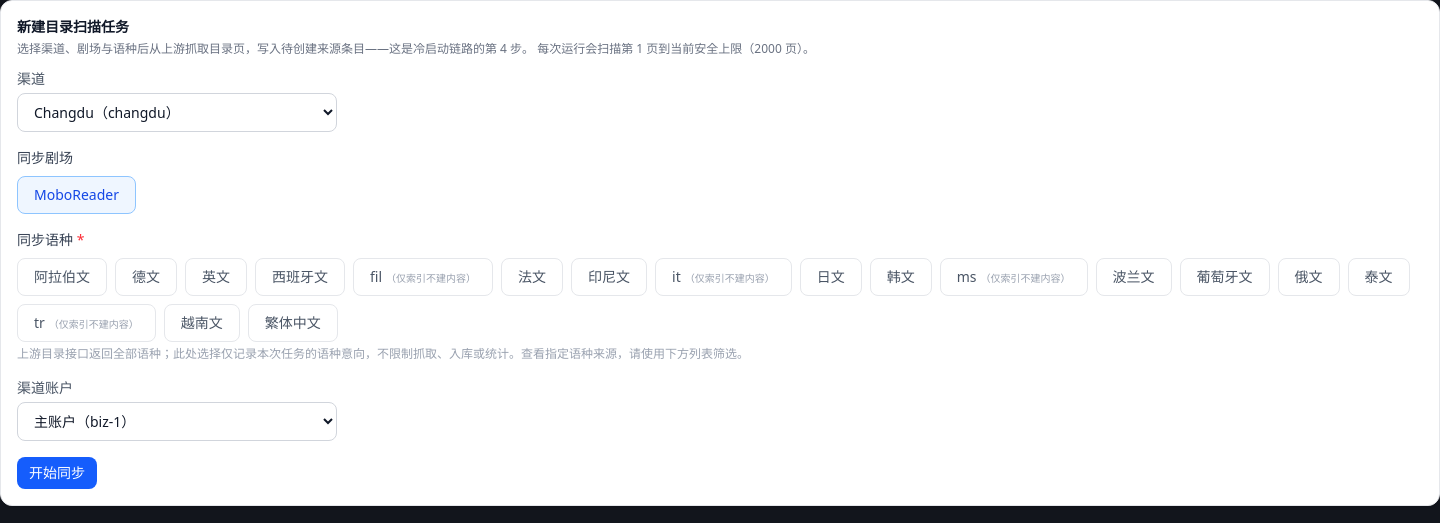
Test: 默认态：渠道 → 剧场 → 语种 → 账户 依次生效 › 切换渠道会把剧场与账户都重置为新渠道的第一项
The image size is (1440, 523).
Select "第二渠道（second-channel）" in the dropdown labelled "渠道". click: [177, 112]
box: [17,93,337,132]
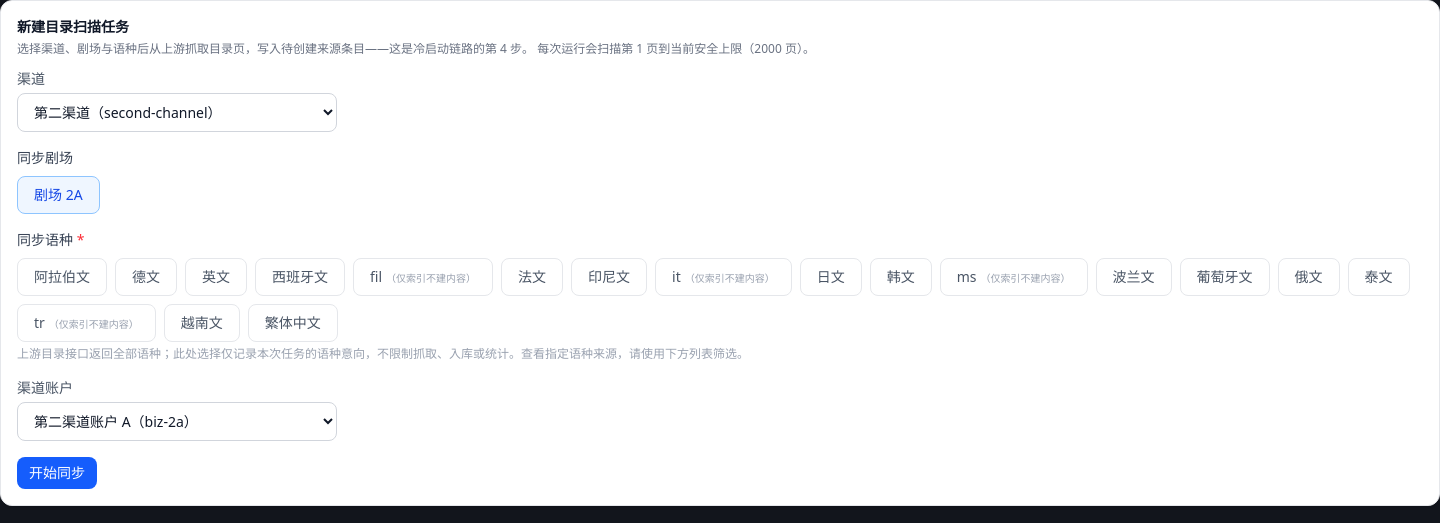
Check: the button "剧场 2A" is shown, box [17,176,100,214]
Check: the dropdown labelled "渠道账户" shows "第二渠道账户 A（biz-2a）", box [17,402,337,441]
